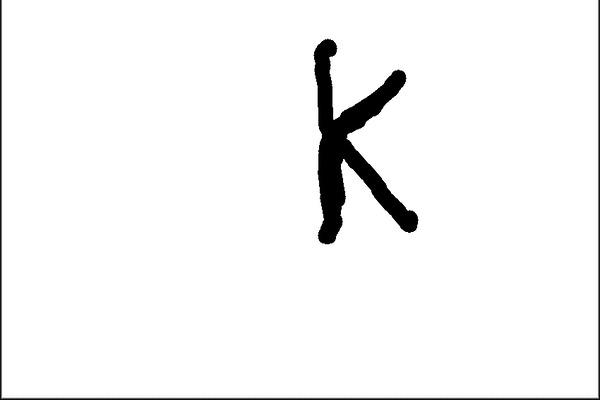K: (296, 30, 423, 256)
